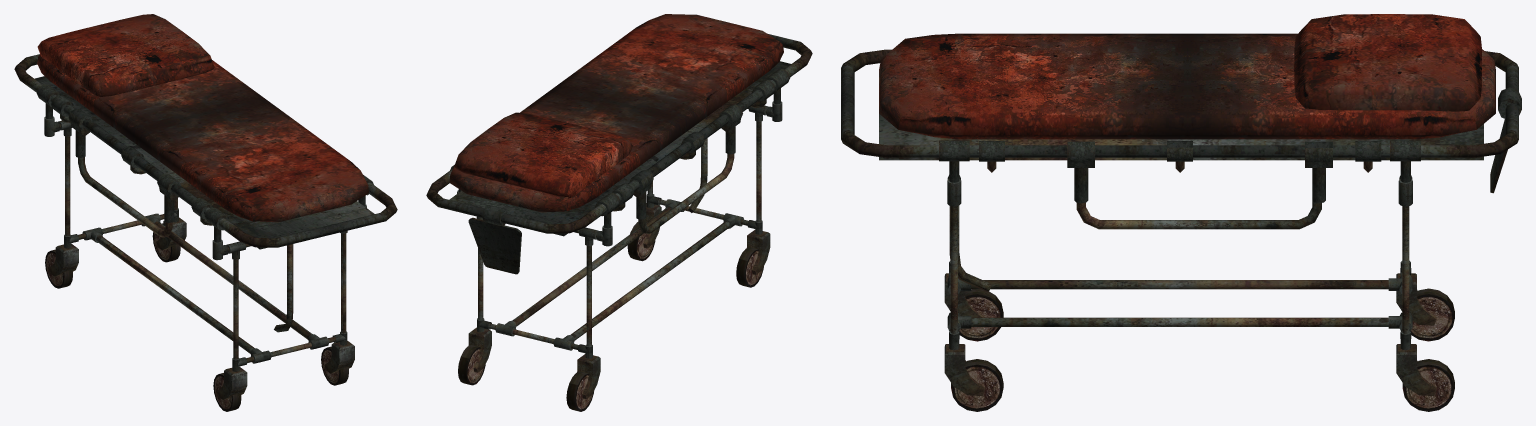
Rendered from Gurney.obj.
The picture shows the model from 3 angles, left to right: view 1: azimuth 30°, elevation 25°; view 2: azimuth 150°, elevation 25°; view 3: azimuth 270°, elevation 25°; orthographic projection. The views are drawn at different scales.
Parts seen in each view (by area): view 1: Gurney; view 2: Gurney; view 3: Gurney.
Boxes of the visible parts, x1,y1,x2,y2 form: Gurney: (14,14,397,411); Gurney: (426,14,812,411); Gurney: (841,14,1521,411).
Bounding box in the file's own units: 66.06 × 94.59 × 181.
Materials: 1 (1 with a texture image).
